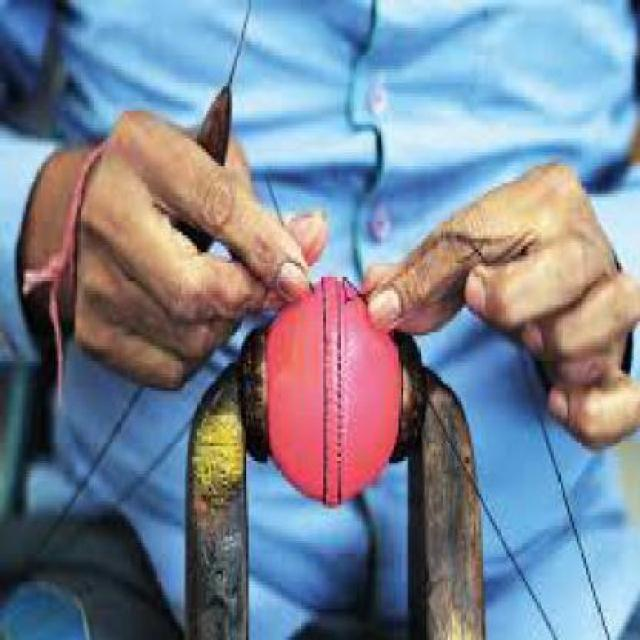ball: (232, 255, 446, 510)
